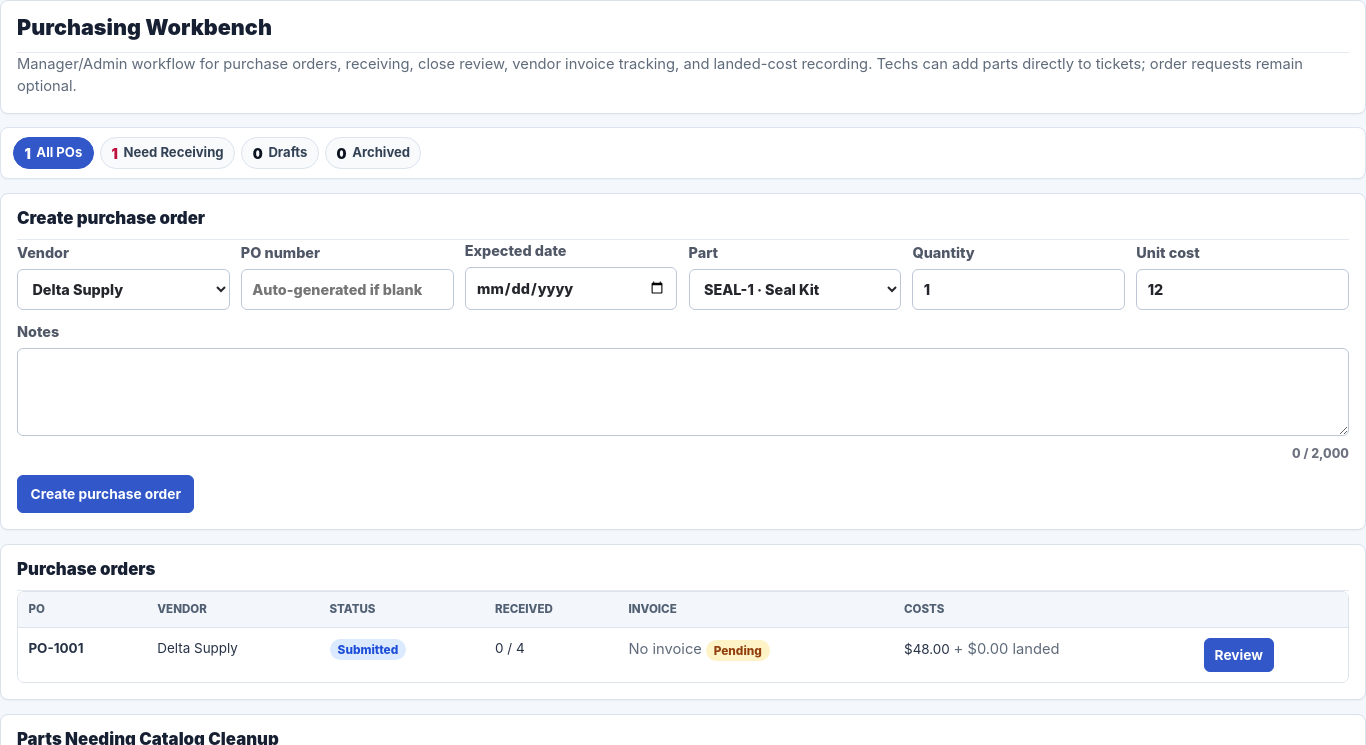
Test: PurchasingWorkbenchPage › reviews a purchase order and saves receiving plus invoice landed costs
Click the button "Review": point(1239, 655) [1204, 638, 1274, 672]
(page scrolled)
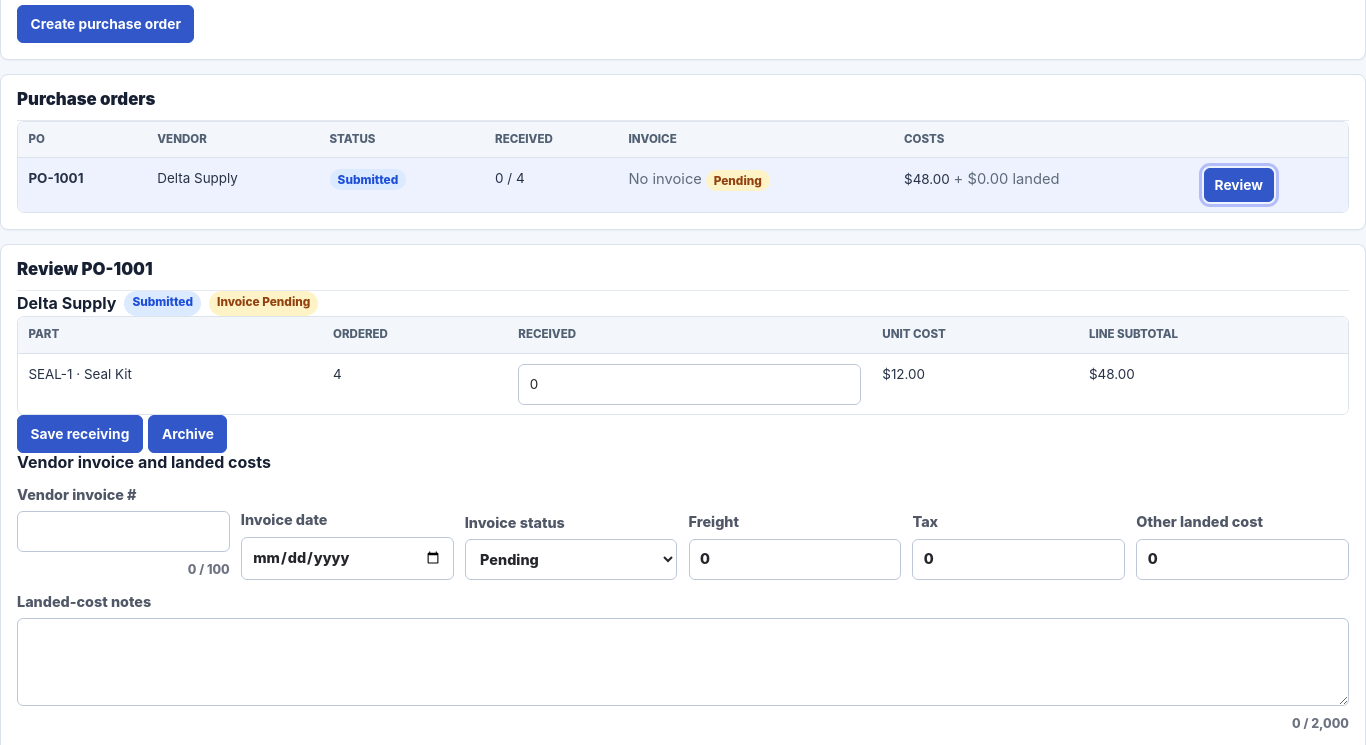
Replace the text in the number field named "Received quantity for SEAL-1" with "4": point(690, 384) [518, 364, 862, 405]
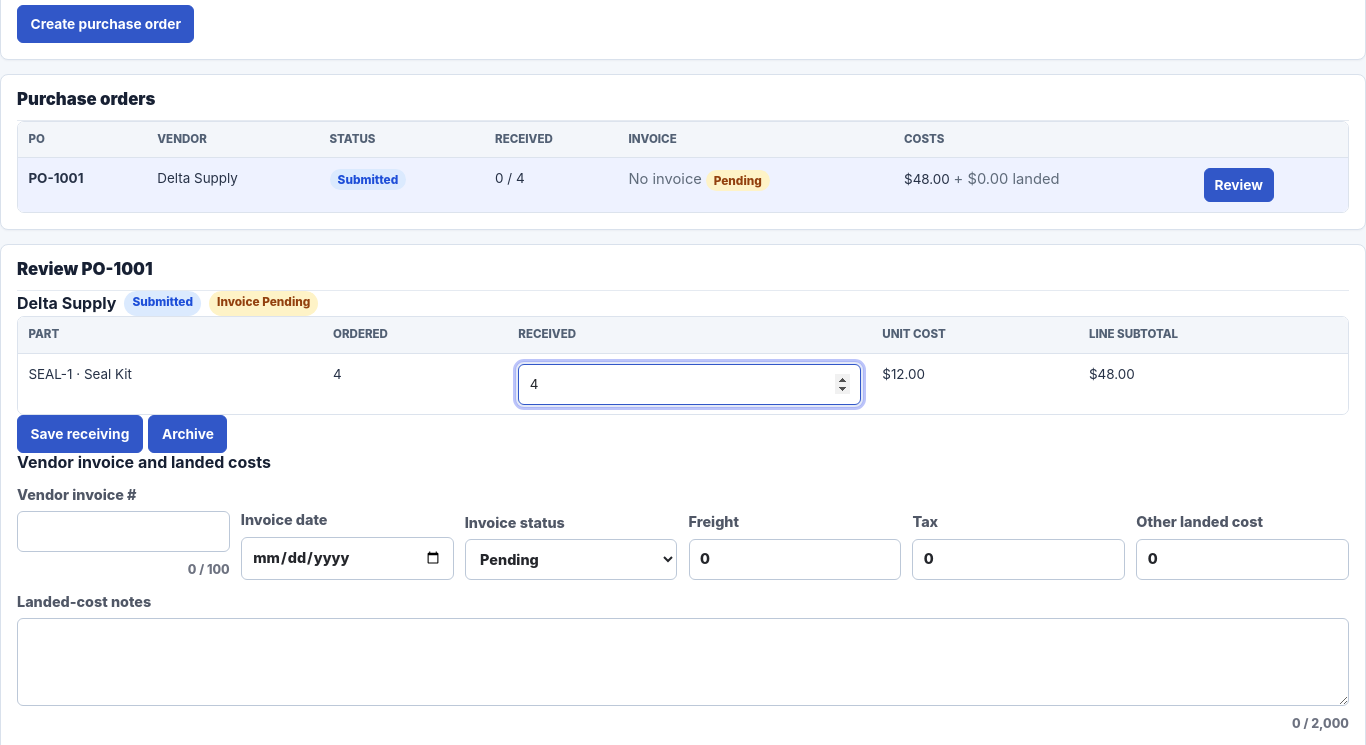
Click the button "Save receiving": point(80, 434) [17, 416, 143, 454]
(page scrolled)
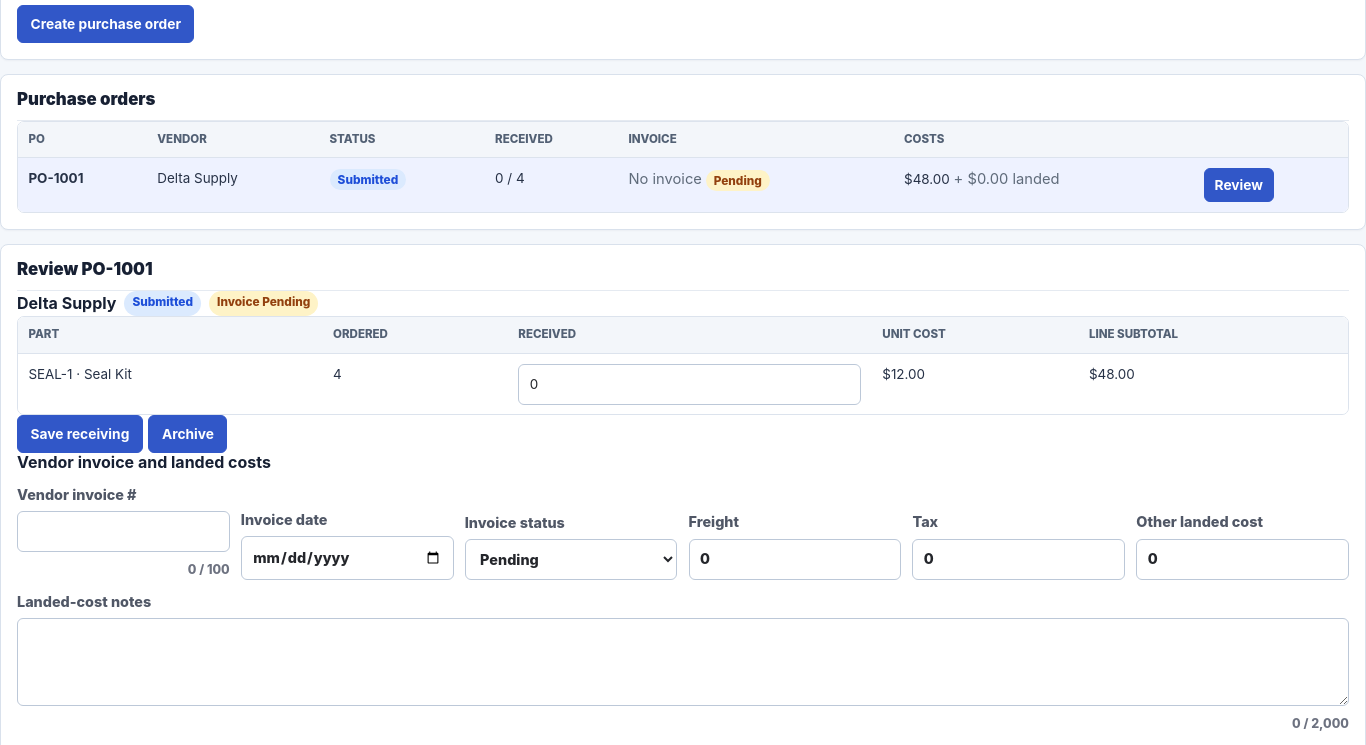
In the field named "Vendor invoice number": point(123, 532) [17, 511, 230, 552], type "INV-77"
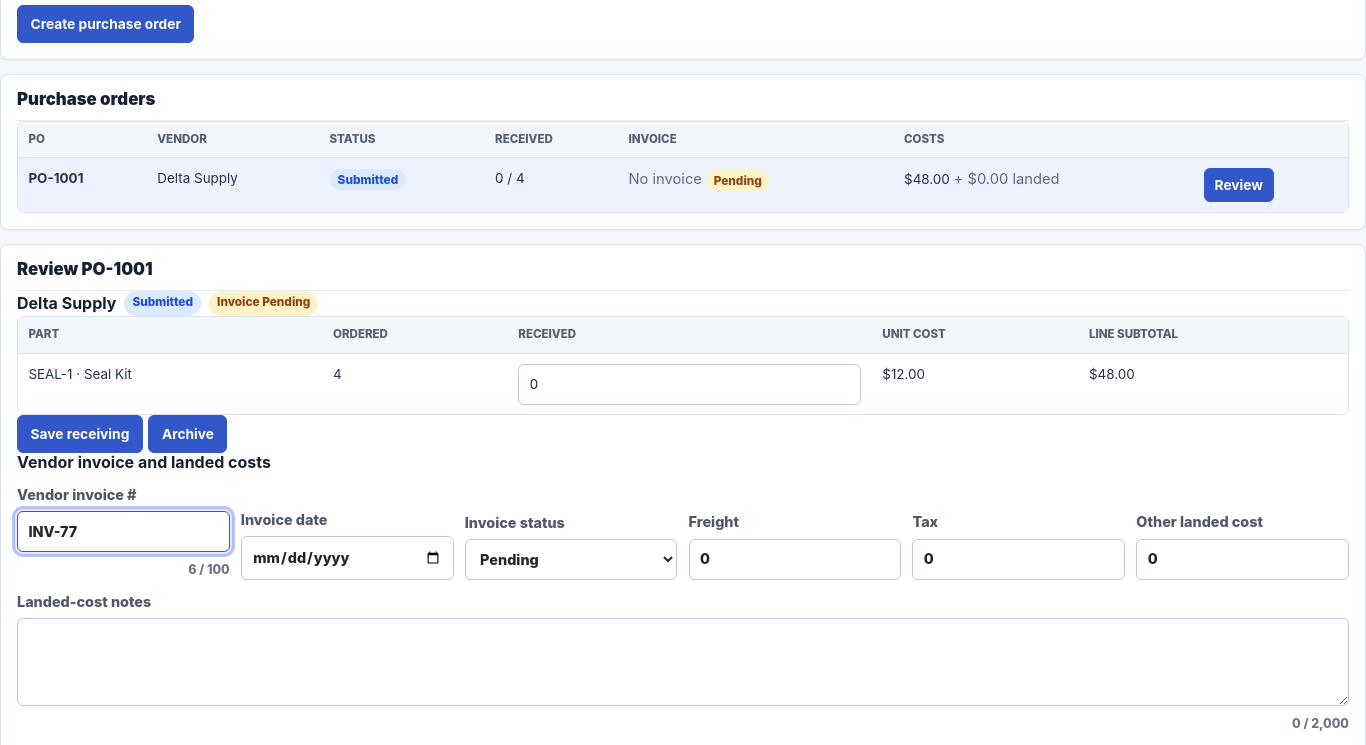
Replace the text in the number field named "Freight cost" with "7": point(795, 559) [689, 538, 901, 580]
(page scrolled)
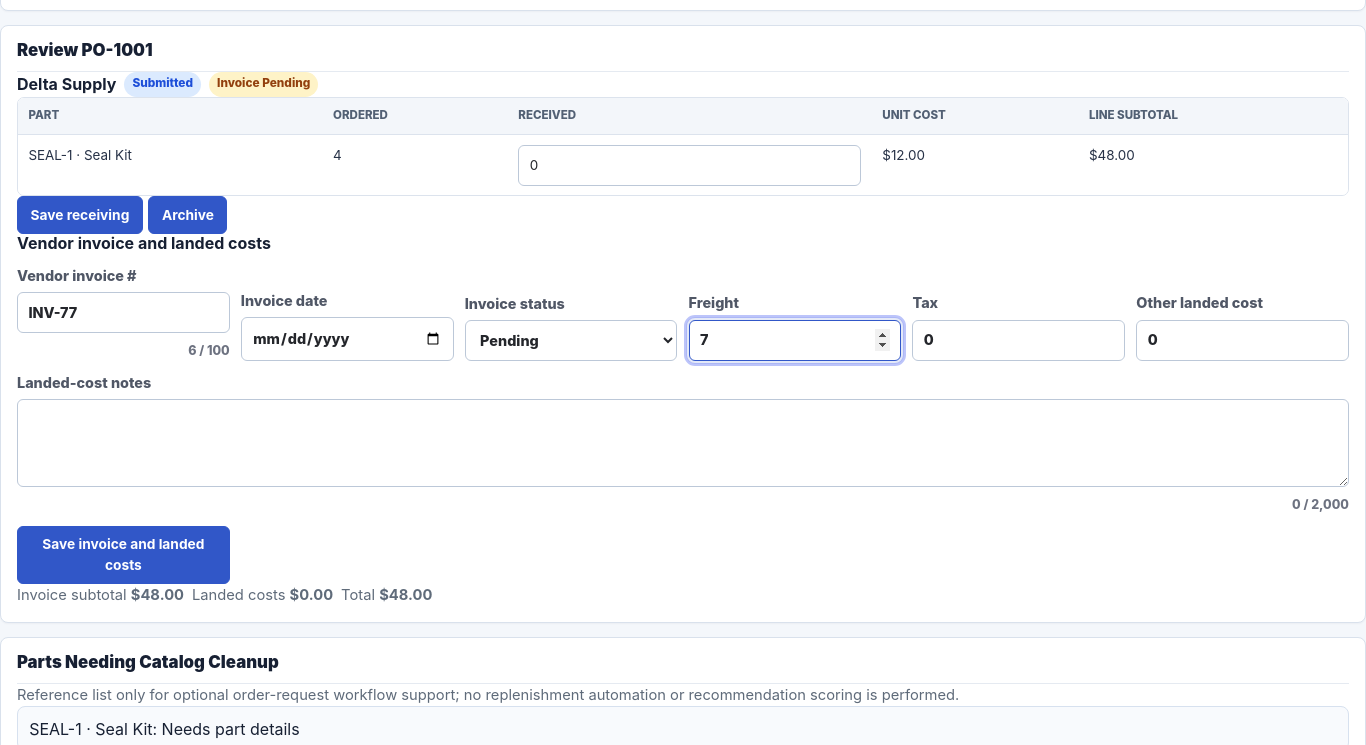
Click the button "Save invoice and landed costs": point(123, 555) [17, 526, 230, 584]
(page scrolled)
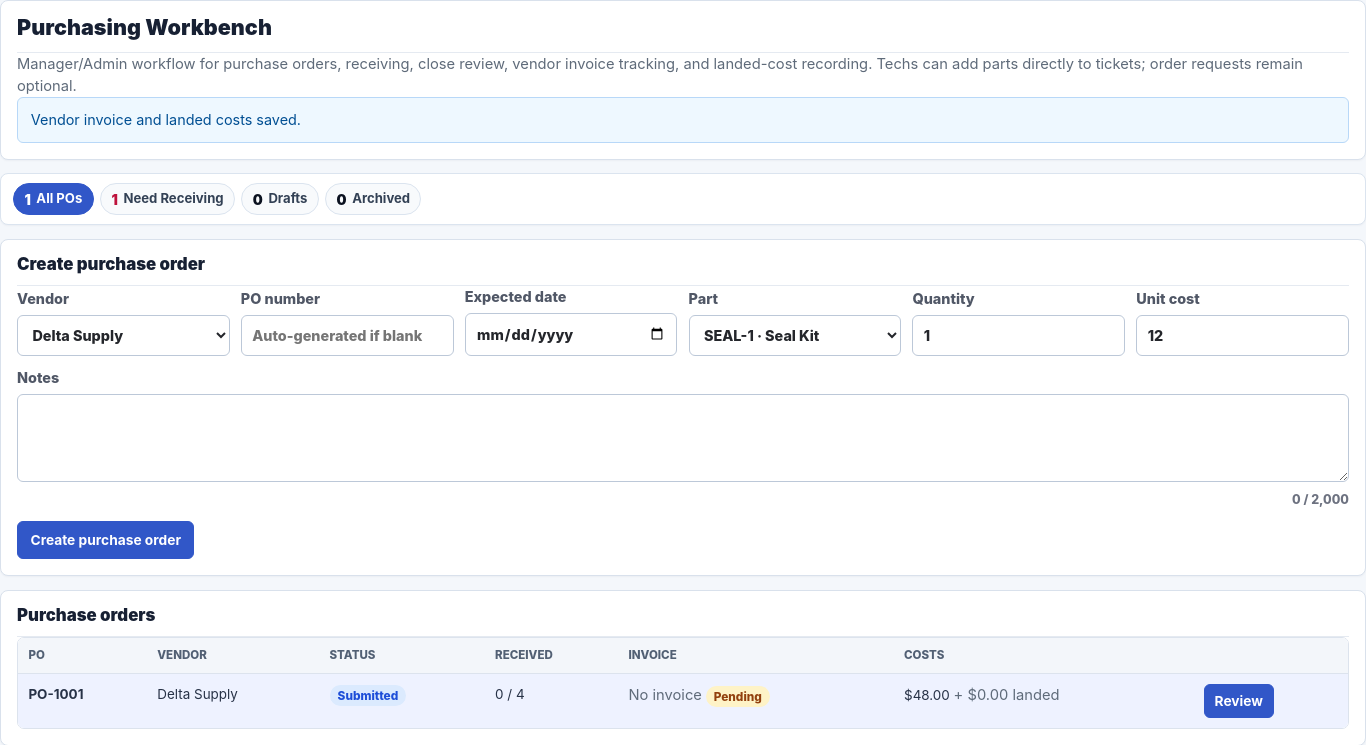
Expected: the text "Vendor invoice and landed costs saved." is shown, [17, 97, 1349, 143]
